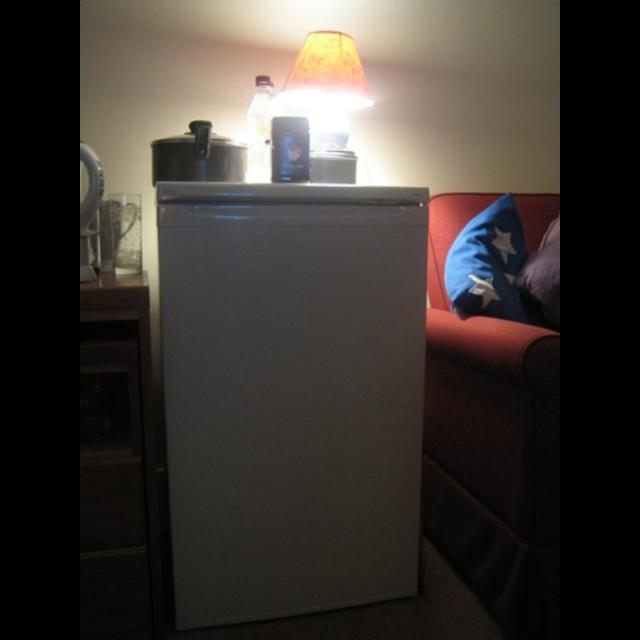Refrigerator: (153, 180, 427, 628)
